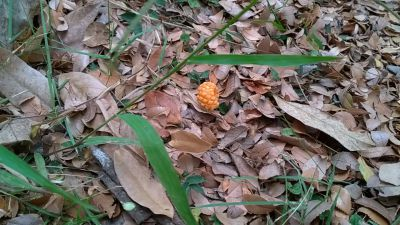eggs: (195, 80, 222, 114)
